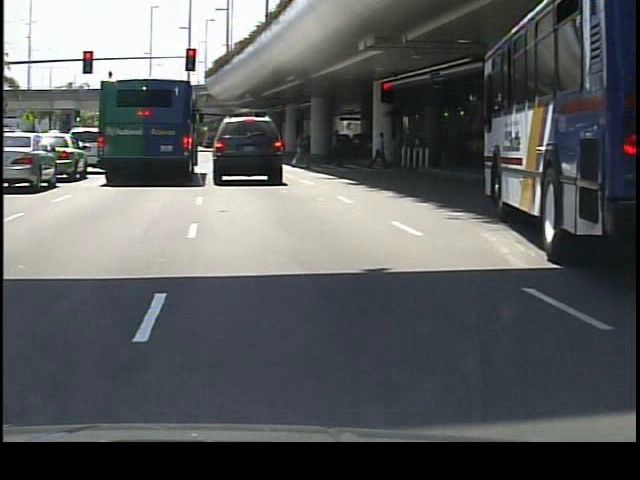person: (322, 125, 344, 172), (288, 127, 308, 172), (367, 130, 387, 171)
